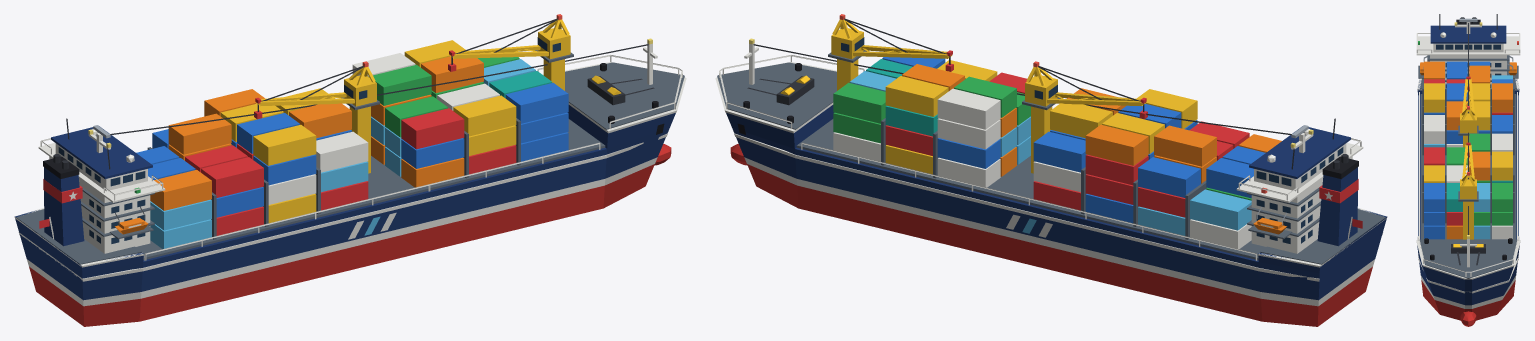
The model's file is ship_cargo.glb.
3 renders of one model, left to right at view 1: azimuth 30°, elevation 25°; view 2: azimuth 150°, elevation 25°; view 3: azimuth 270°, elevation 25°, orthographic. The views are drawn at different scales.
Parts seen in each view (by area): view 1: Body; view 2: Body; view 3: Body.
Part boxes in pixels (<box>): Body: <box>14,14,686,326</box>; Body: <box>715,14,1387,326</box>; Body: <box>1416,14,1520,326</box>.
Bounding box in the file's own units: 6.19 × 1.58 × 1.24.
